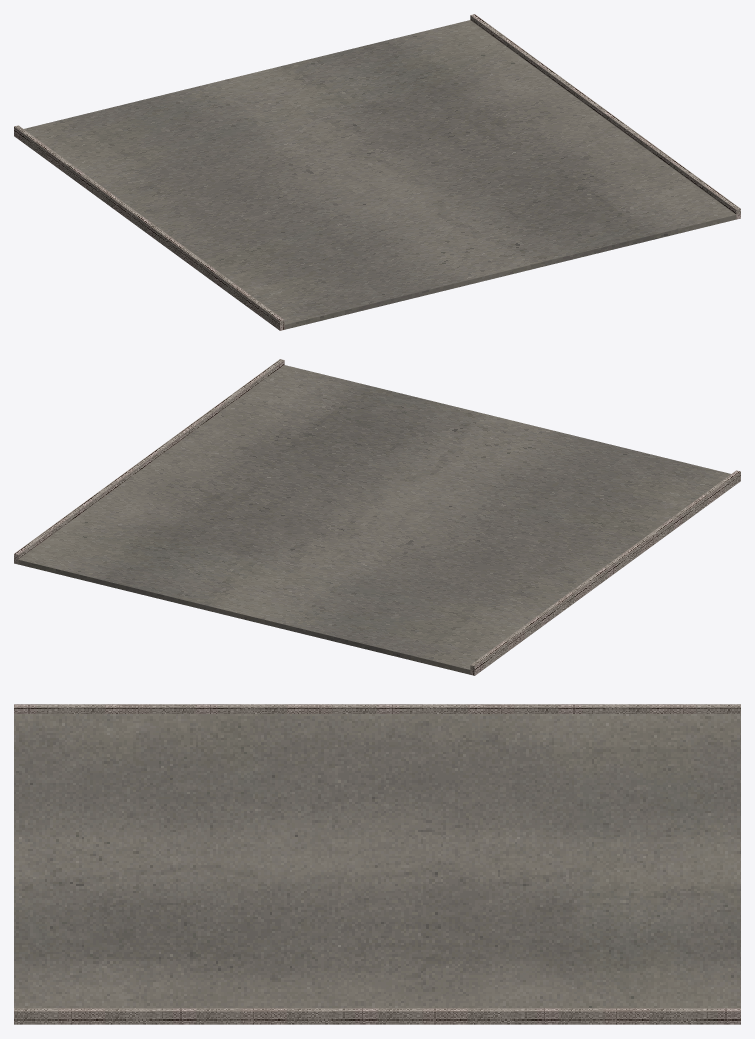
File: road_3_straight_no_sides.glb
3 renders of one model, top to bottom at view 1: azimuth 30°, elevation 25°; view 2: azimuth 150°, elevation 25°; view 3: azimuth 270°, elevation 25°, orthographic. The views are drawn at different scales.
Parts seen in each view (by area): view 1: road_3_straight_no_sides; view 2: road_3_straight_no_sides; view 3: road_3_straight_no_sides.
Part boxes in pixels (x1,y1,x2,y2): road_3_straight_no_sides: (14, 14, 740, 330); road_3_straight_no_sides: (14, 359, 740, 675); road_3_straight_no_sides: (14, 704, 740, 1024).
Size of the model in its own units: 16 by 0.32 by 16.
Materials: 2 (2 with a texture image).
